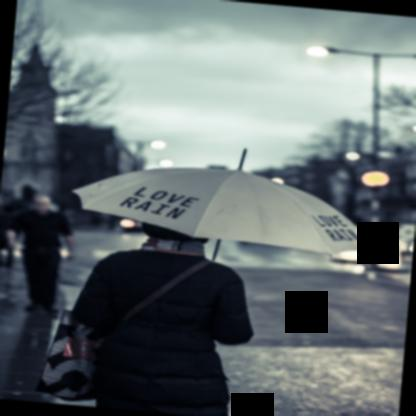handbag: (32, 257, 212, 402)
